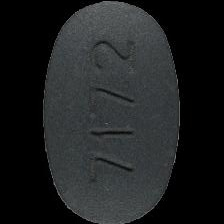0093-7172: (0, 0, 224, 224)
